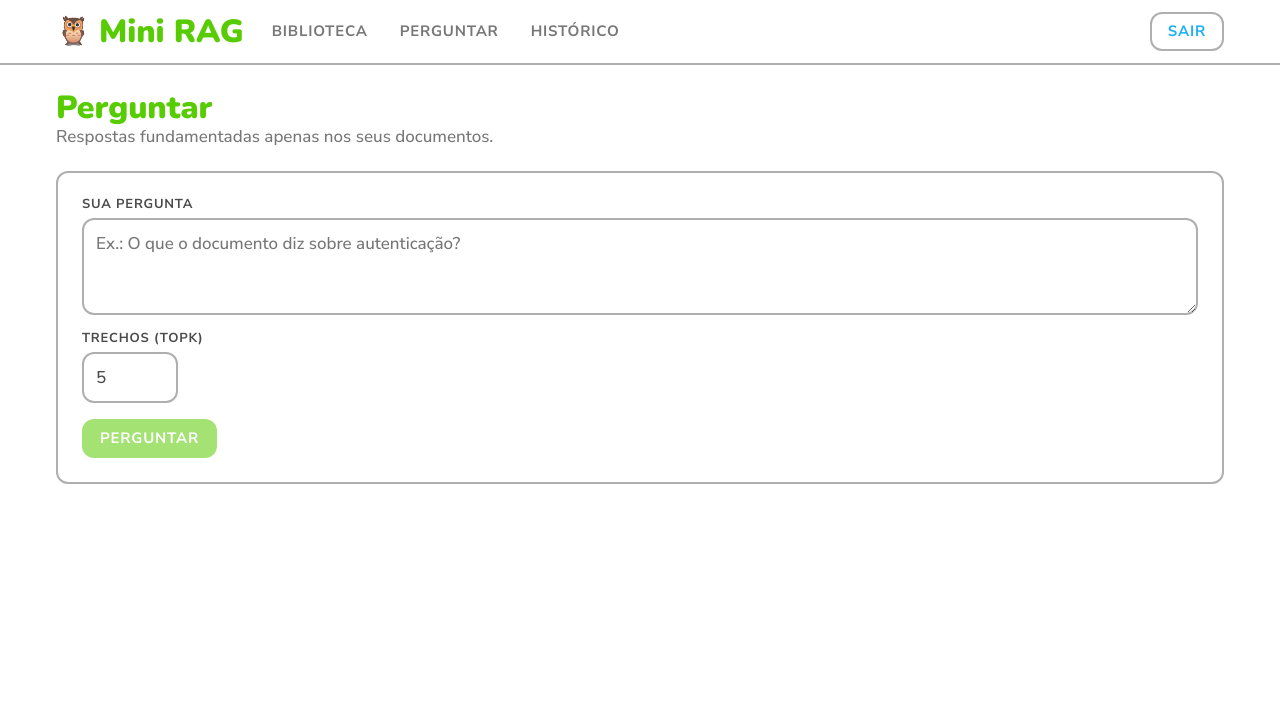
Test case: ChatView (streaming RAG) › renderiza os tokens incrementais e as citações da resposta
The width and height of the screenshot is (1280, 720).
Type "Qual a resposta?" into the text box labelled "Sua pergunta". click: (640, 267)
box: [82,218,1198,315]
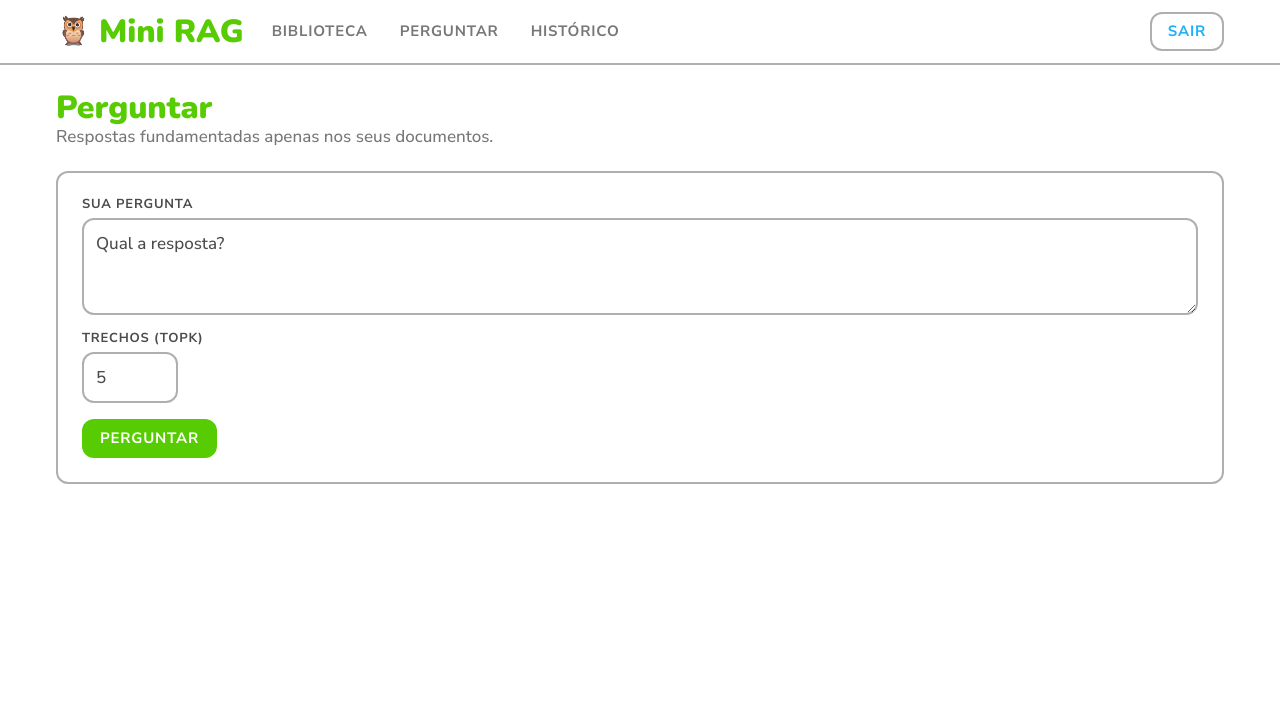
Submit the form, box [56,171,1224,484]
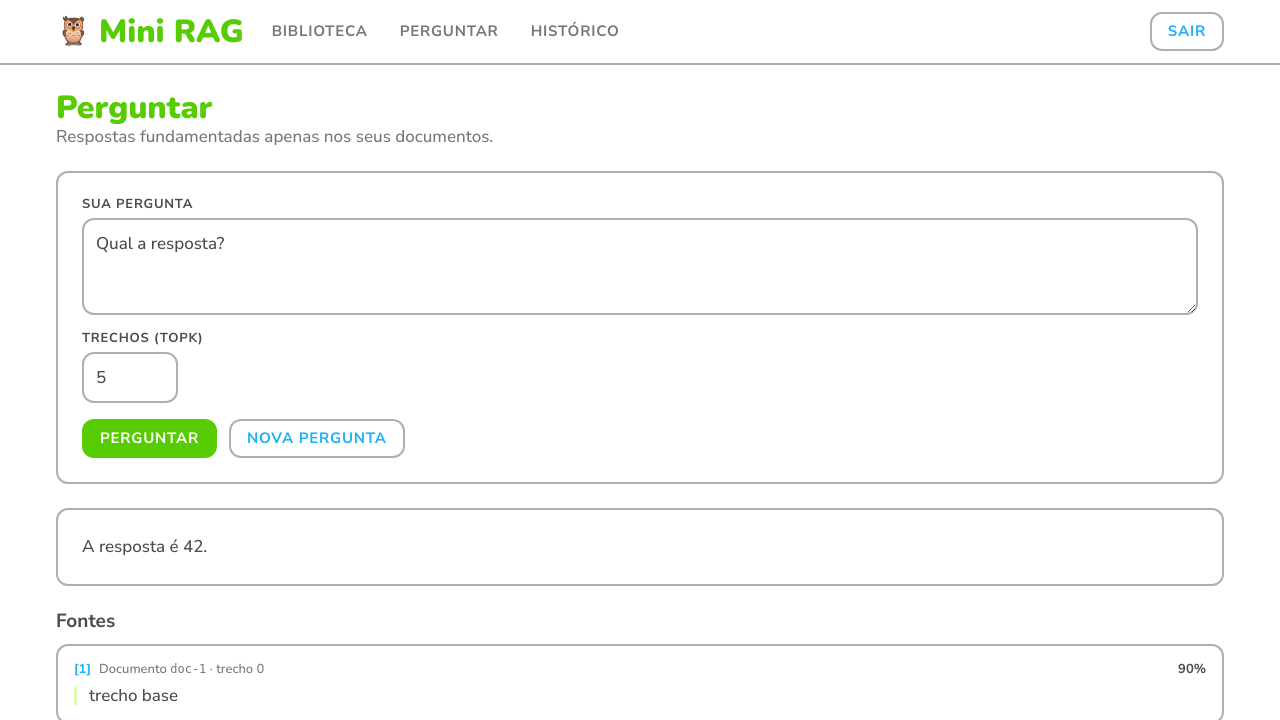
expect the text "A resposta é 42." is shown: met, box [82,536,207,558]
expect the text "Fontes" is shown: met, box [56,608,115,634]
expect the text "[1]" is shown: met, box [74,662,91,678]
